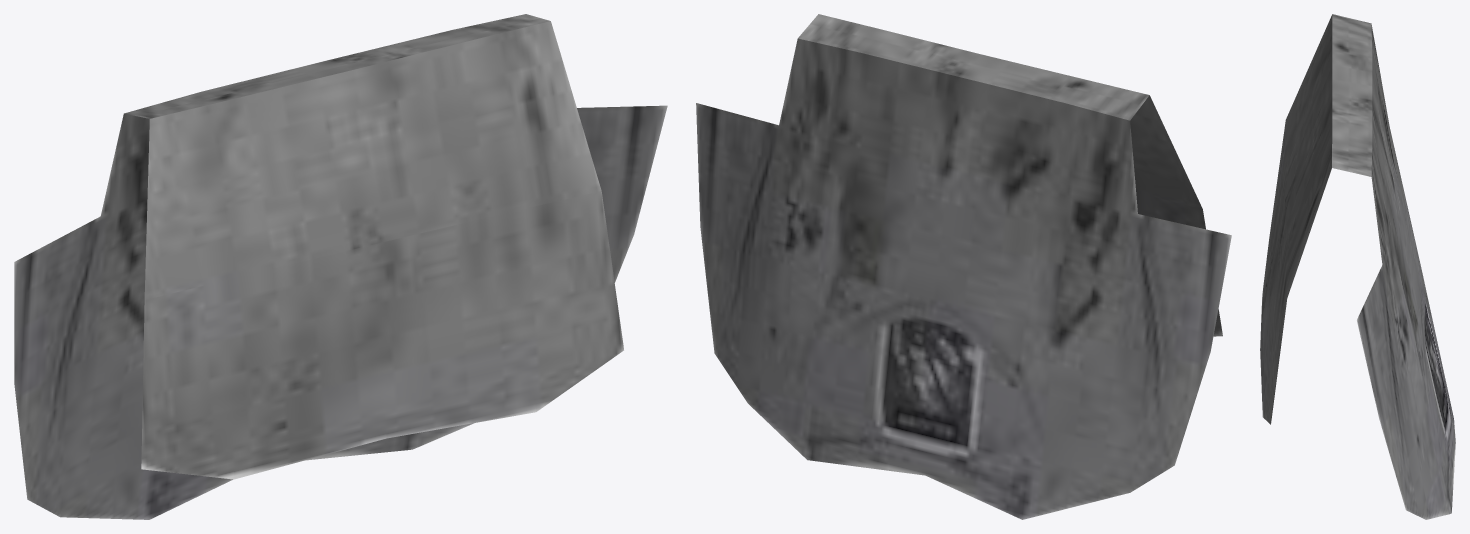
The model's file is Tshirt_1.fbx.
3 renders of one model, left to right at view 1: azimuth 30°, elevation 25°; view 2: azimuth 150°, elevation 25°; view 3: azimuth 270°, elevation 25°, orthographic. The views are drawn at different scales.
Visible parts, largest first — view 1: Plane.002; view 2: Plane.002; view 3: Plane.002.
Boxes of the visible parts, <box> form: Plane.002: <box>14,14,667,519</box>; Plane.002: <box>696,14,1231,519</box>; Plane.002: <box>1260,14,1455,519</box>.
Bounding box in the file's own units: 179 × 125 × 59.15.
